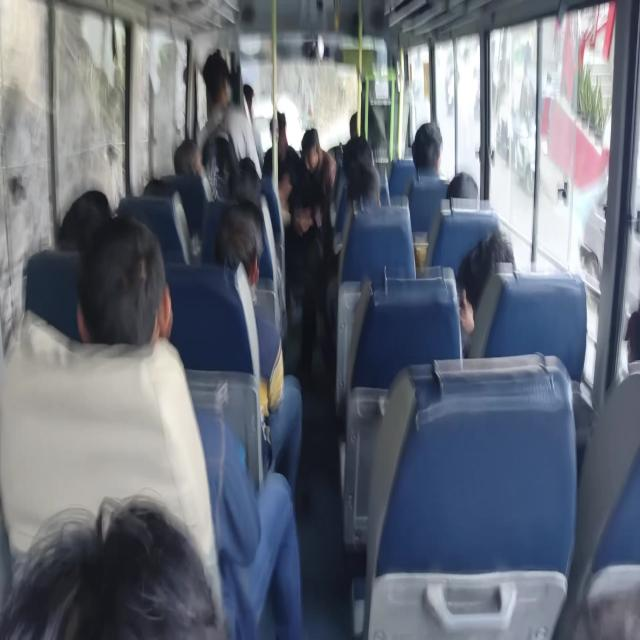person: (24, 49, 518, 635), (75, 214, 302, 637), (1, 492, 226, 639), (215, 203, 302, 506), (196, 49, 262, 179), (455, 229, 516, 356), (56, 188, 112, 254), (342, 135, 381, 209), (299, 127, 337, 202), (174, 138, 212, 202), (411, 121, 444, 180), (445, 171, 479, 199)
